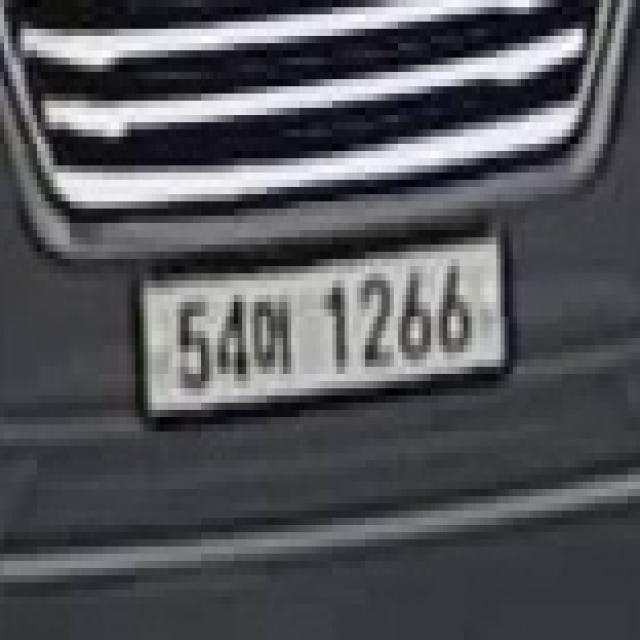1: (324, 259, 353, 374)
2: (361, 259, 394, 374)
4: (213, 280, 250, 402)
5: (177, 280, 210, 396)
6: (398, 252, 435, 381), (439, 252, 472, 366)
eo: (247, 295, 296, 374)
license_plate: (131, 216, 517, 446)
